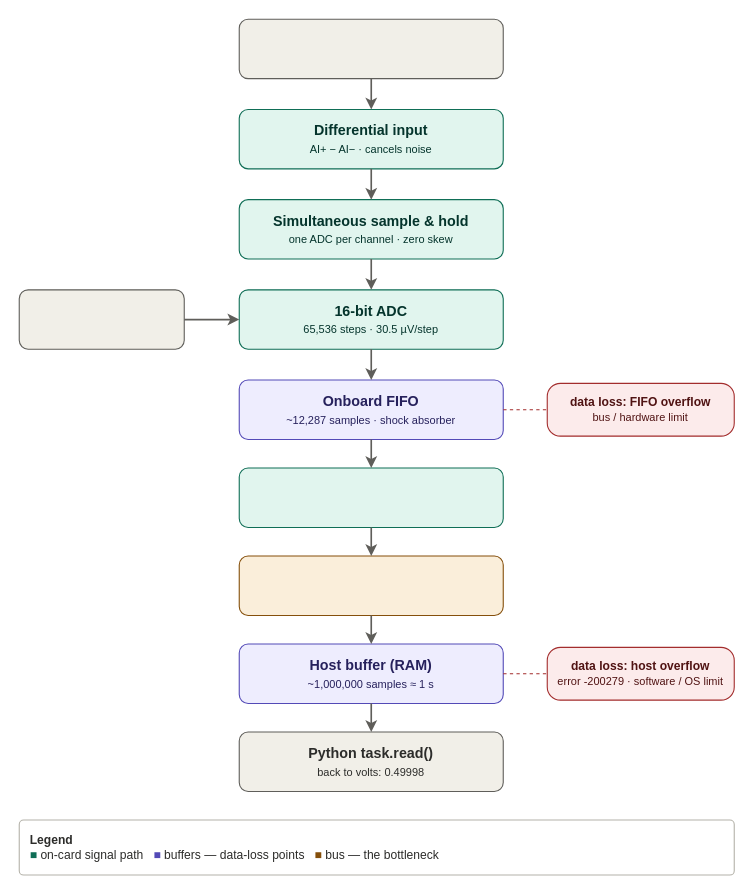
Some shapes in this 754 by 894 pixel diagram are drawn without their labels. Each missing label, with the centre of its shape:
Chip signal example: 0.5 V on one channel: (x=370, y=48)
DMA engine moves data · no CPU · 8 channels: (x=370, y=497)
PXIe bus ×1 250 MB/s — the bottleneck: (x=370, y=585)
Sample clock 100 MHz · 14.29 MS/s max: (x=101, y=319)
